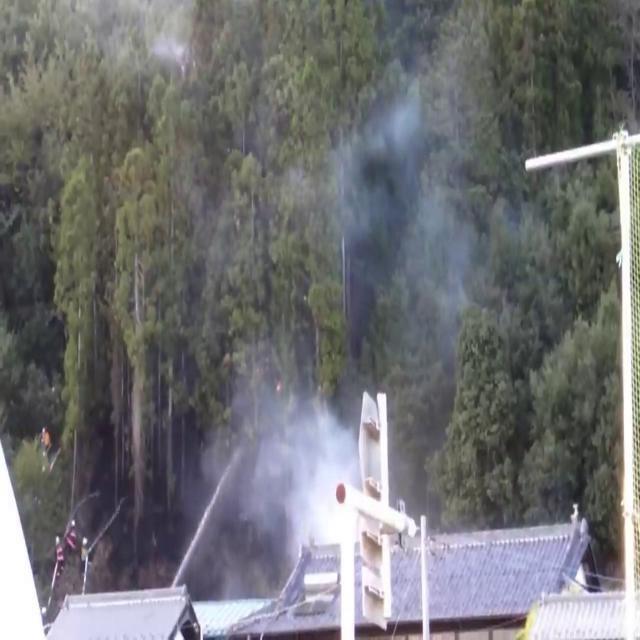Smoke: (361, 21, 499, 376), (196, 350, 372, 584)
